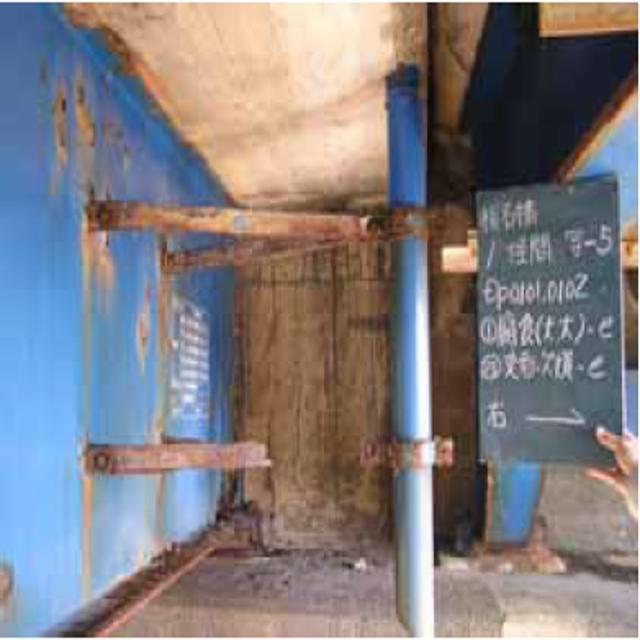corrosion: (77, 143, 446, 288), (77, 385, 258, 640), (350, 407, 477, 490)
